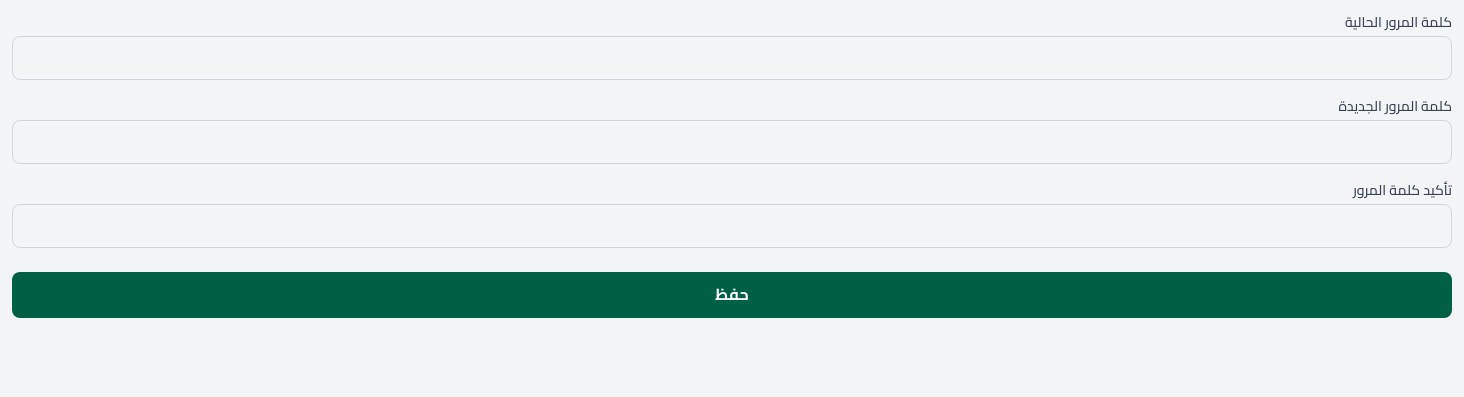
ChangePasswordForm › يرفض القصيرة ويركّز حقل الجديدة
Type "old1234" into the password field labelled "كلمة المرور الحالية". click: (732, 58)
box: [12,36,1452,80]
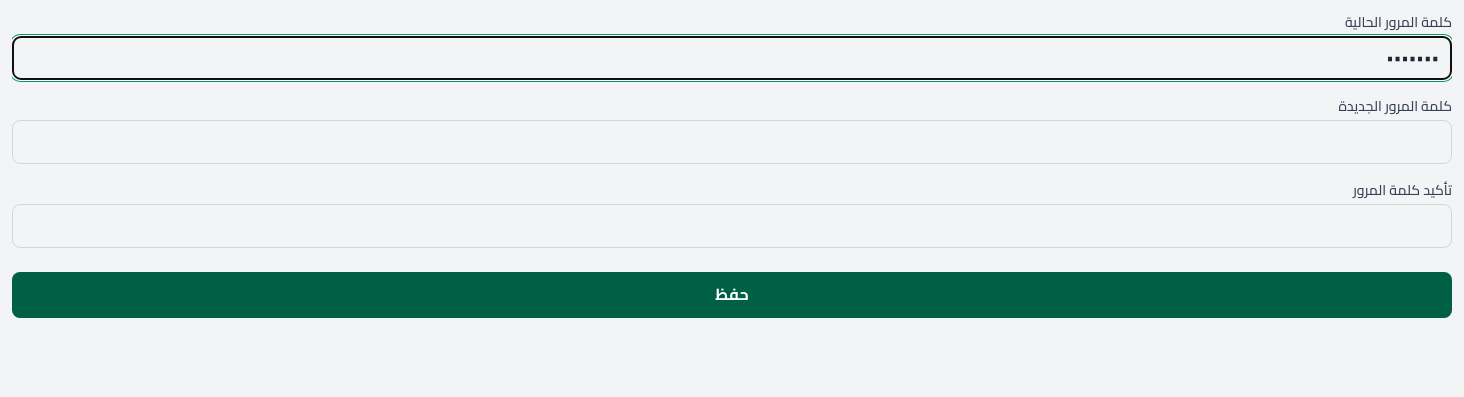
Type "123" into the password field labelled "كلمة المرور الجديدة". click: (732, 142)
box: [12,120,1452,164]
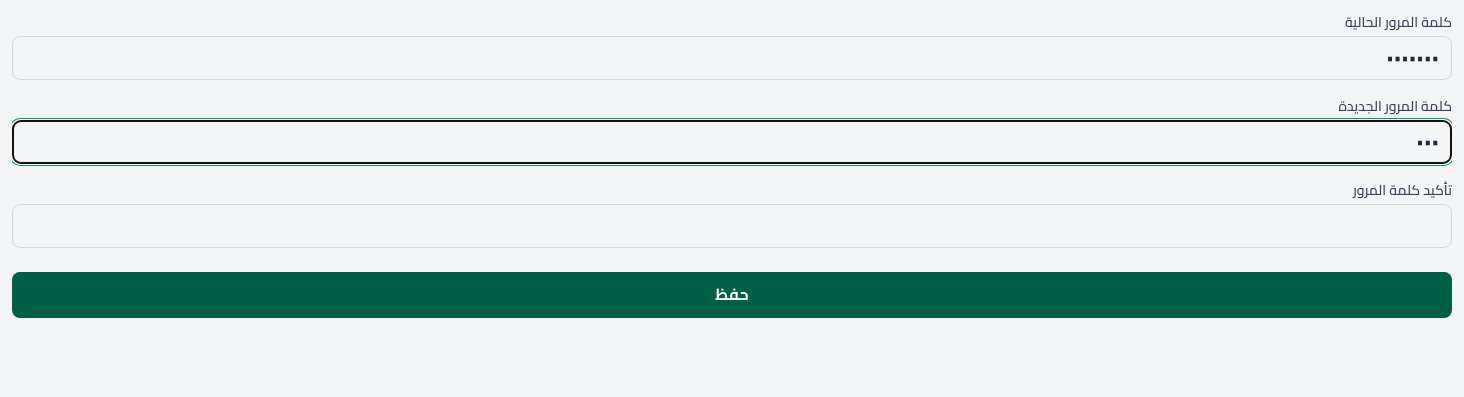
Type "123" into the password field labelled "تأكيد كلمة المرور". click: (732, 226)
box: [12,204,1452,248]
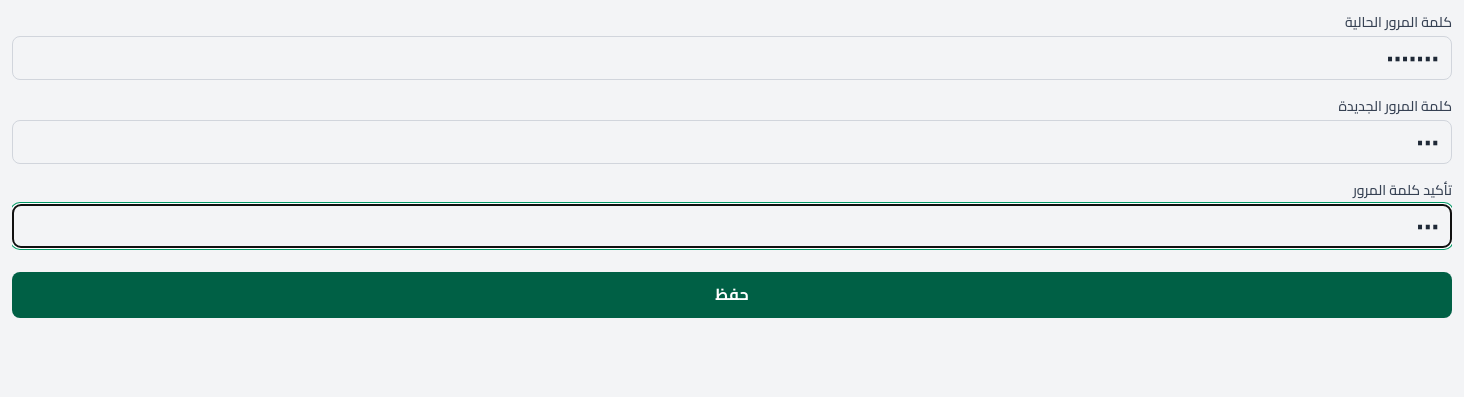
Click the button "حفظ". click: (732, 295)
box: [12,272,1452,318]
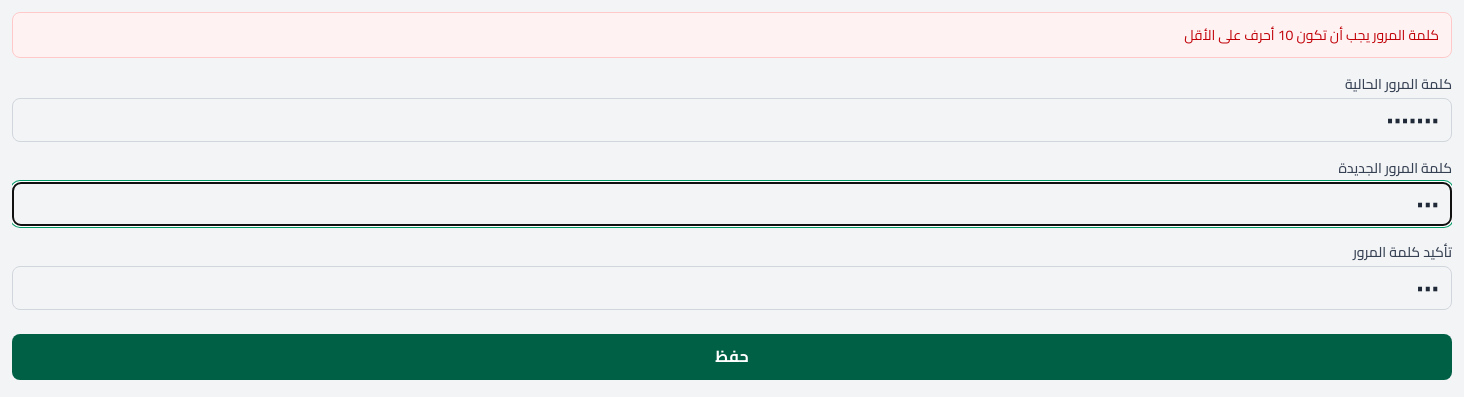
Expected: the message shows "10 أحرف", [1184,22,1439,48]
